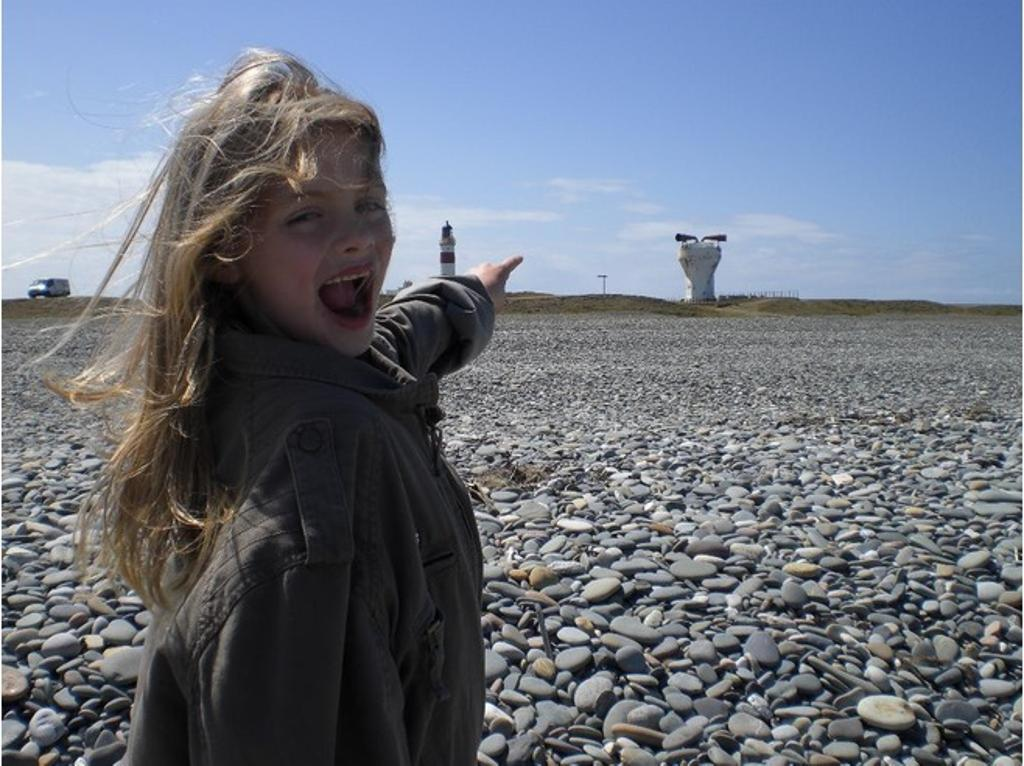face: (267, 119, 397, 357)
